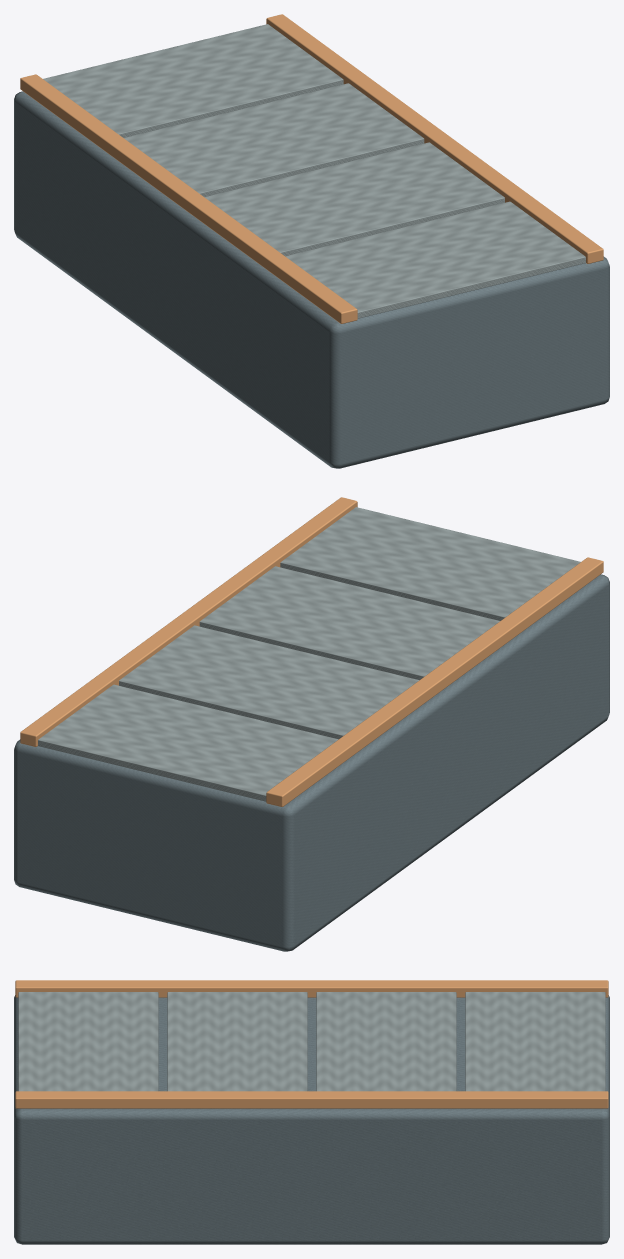
The model's file is dwarven-runeforge-dungeon-dwarven-runeforge-dungeon-br-f6c87622__28580.glb.
The picture shows the model from 3 angles, top to bottom: view 1: azimuth 30°, elevation 25°; view 2: azimuth 150°, elevation 25°; view 3: azimuth 270°, elevation 25°; orthographic projection. The views are drawn at different scales.
Visible parts, largest first — view 1: dwarven-runeforge-dungeon-bridge-straight; view 2: dwarven-runeforge-dungeon-bridge-straight; view 3: dwarven-runeforge-dungeon-bridge-straight.
Boxes of the visible parts, box(x1,y1,x2,y2) form: dwarven-runeforge-dungeon-bridge-straight: box(14, 14, 609, 468); dwarven-runeforge-dungeon-bridge-straight: box(14, 497, 609, 951); dwarven-runeforge-dungeon-bridge-straight: box(14, 980, 609, 1244).
Bounding box in the file's own units: 2 × 1.08 × 4.
3 materials, 2 textured.
